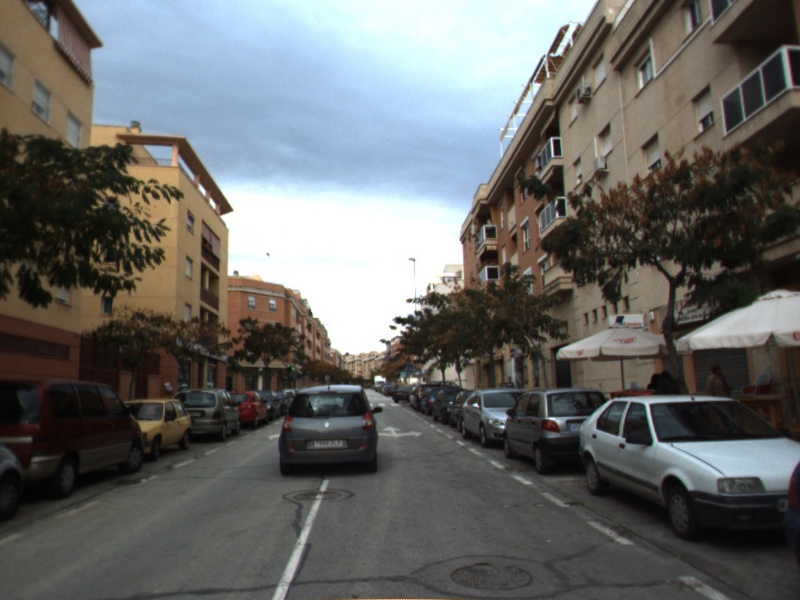STRAIGHT_LEFT_RIGHT: (377, 424, 425, 440)
